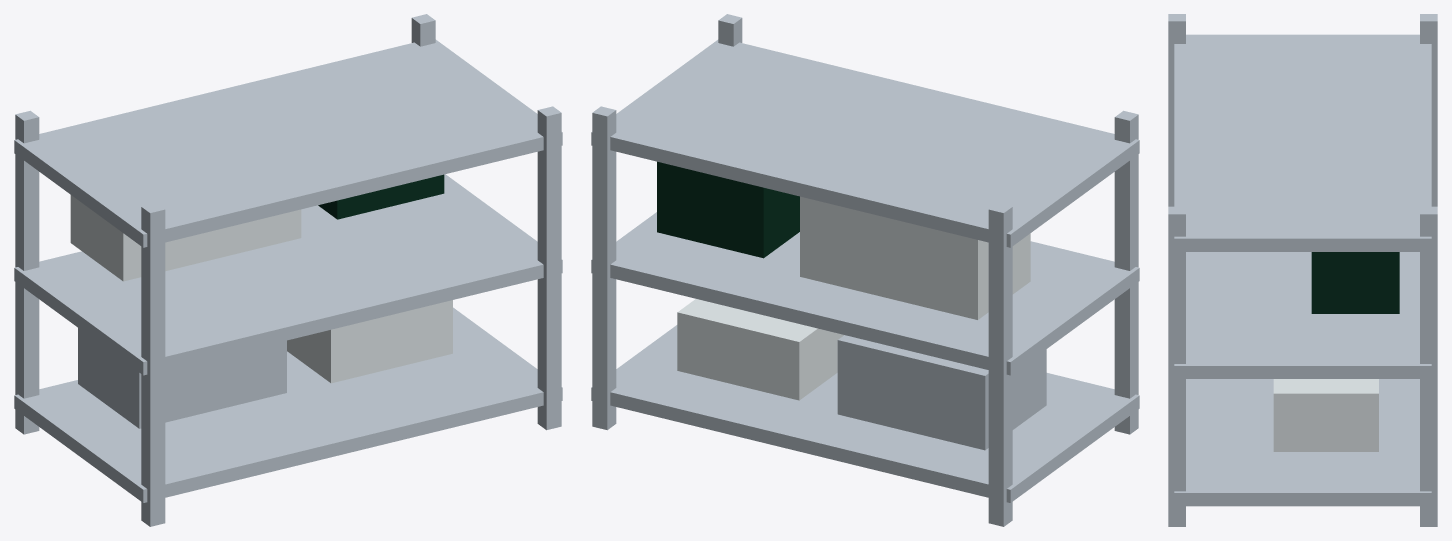
The model's file is medical_equipment_rack_proxy.obj.
3 views of the same model, side by side, from view 1: azimuth 30°, elevation 25°; view 2: azimuth 150°, elevation 25°; view 3: azimuth 270°, elevation 25° (orthographic).
Parts seen in each view (by area): view 1: medical_equipment_rack_proxy; view 2: medical_equipment_rack_proxy; view 3: medical_equipment_rack_proxy.
Boxes of the visible parts, x1,y1,x2,y2 form: medical_equipment_rack_proxy: [14, 14, 562, 526]; medical_equipment_rack_proxy: [591, 14, 1139, 526]; medical_equipment_rack_proxy: [1168, 14, 1437, 526].
Bounding box in the file's own units: 1.65 × 1.18 × 0.92.
